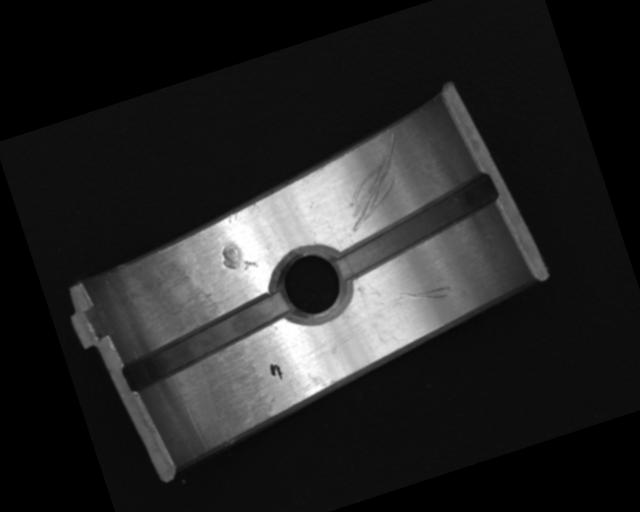blot: (267, 360, 284, 383)
bruise: (217, 236, 258, 277)
gap: (324, 172, 507, 282), (113, 291, 297, 394)
hole: (267, 240, 355, 332)
nick: (327, 133, 422, 233), (393, 278, 453, 313)
